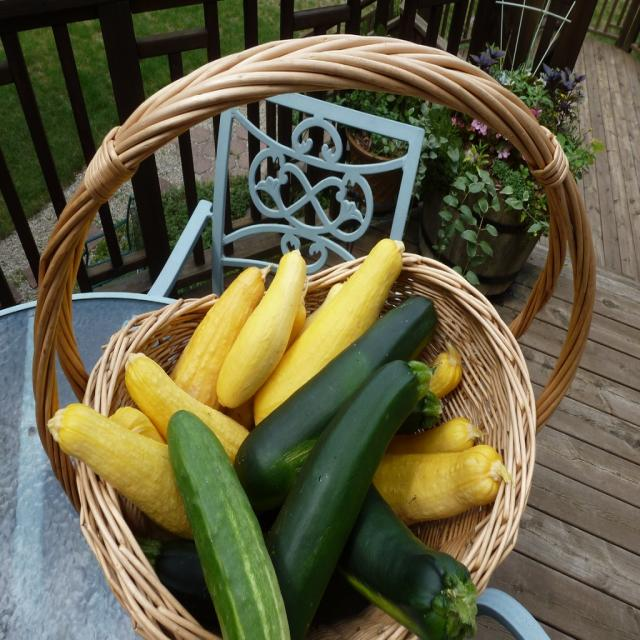Zucchini: (164, 405, 286, 639), (332, 482, 482, 640)
